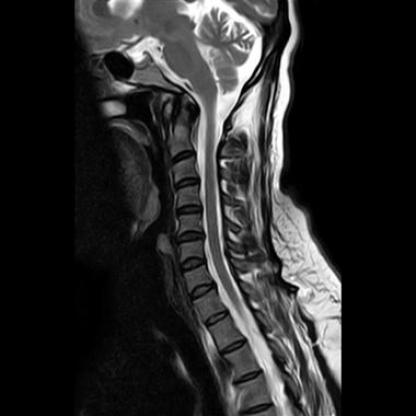Disc Bulgerotation: (175, 229, 206, 245), (177, 258, 208, 272)
Osteophytesrotation: (175, 228, 206, 244), (177, 258, 208, 272)
